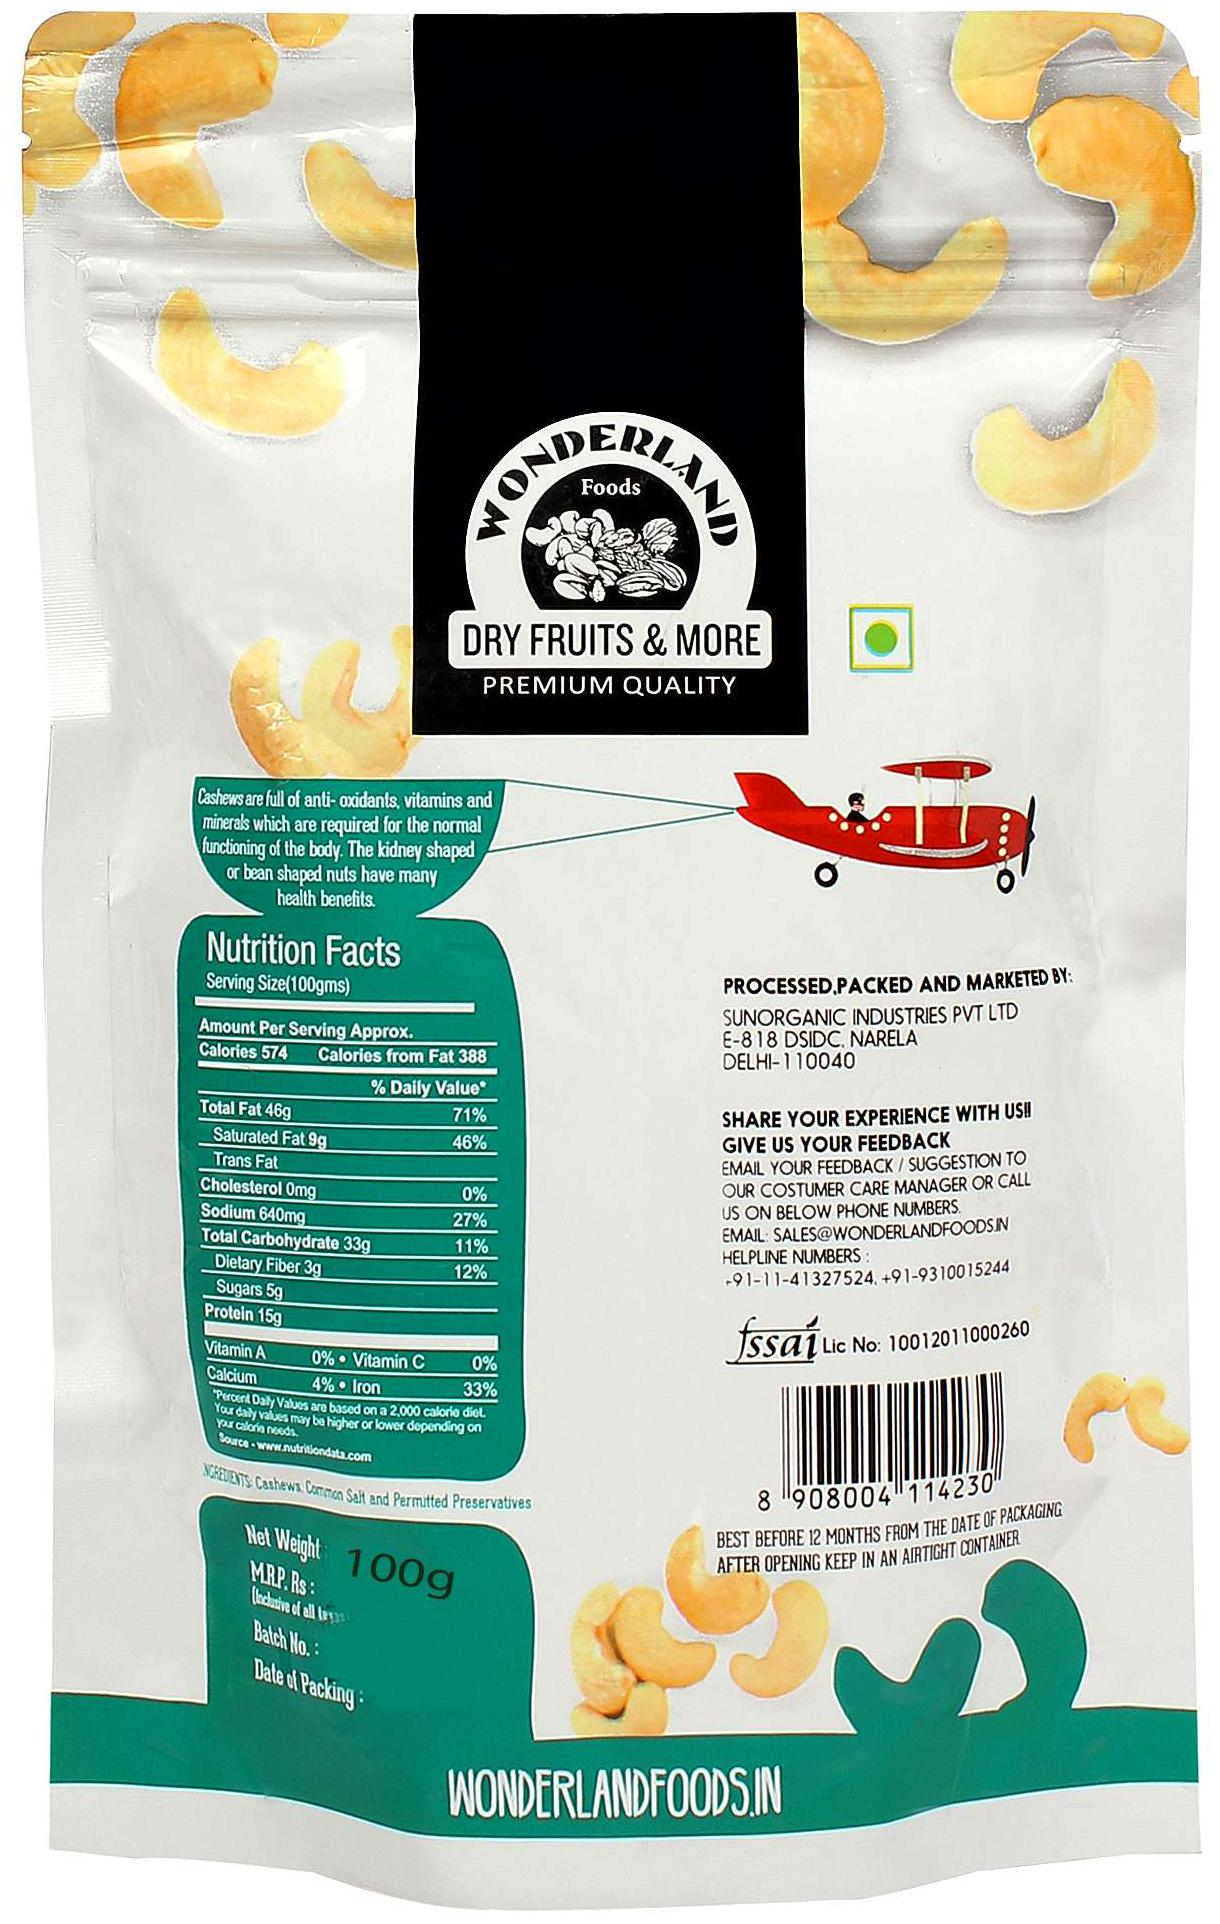fssai: (724, 1314, 820, 1364)
